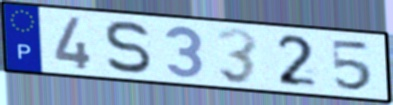2: (275, 33, 319, 90)
3: (215, 26, 265, 86), (163, 23, 206, 80)
4: (52, 14, 94, 71)
5: (329, 38, 374, 92)
S: (104, 19, 154, 76)
